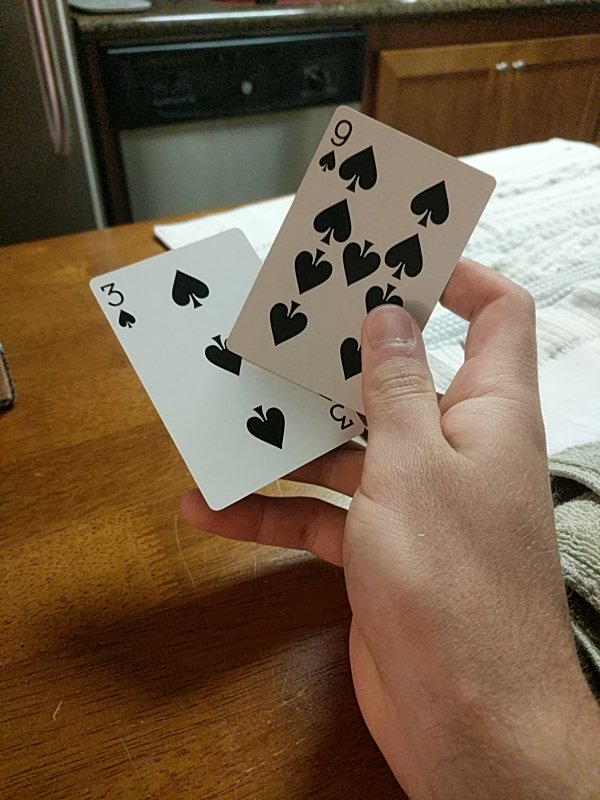Spades: (227, 107, 496, 421), (90, 228, 366, 510)
